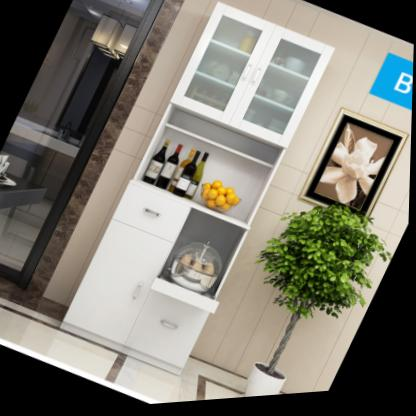Ceramic floor: (0, 307, 249, 406)
Cupboard: (66, 6, 335, 377)
